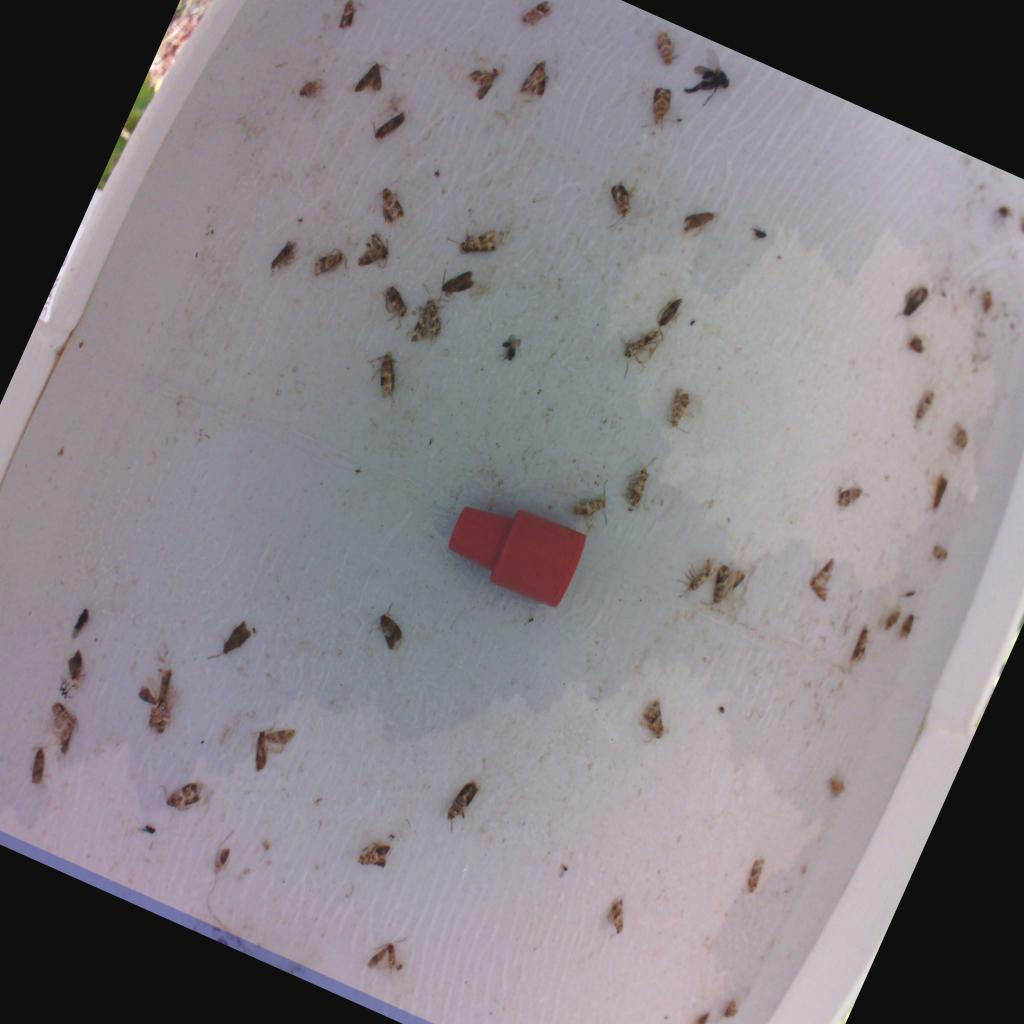grape_moth: (395, 280, 454, 352), (131, 664, 185, 739), (567, 472, 624, 534), (33, 697, 87, 760), (611, 450, 661, 516), (245, 715, 298, 777), (353, 344, 407, 402), (697, 558, 749, 618), (614, 319, 662, 381), (668, 548, 718, 607), (366, 173, 416, 231), (443, 217, 505, 262), (593, 175, 640, 233), (440, 776, 483, 837), (156, 768, 206, 820), (458, 51, 505, 105), (304, 239, 353, 290), (637, 82, 685, 134), (369, 282, 416, 335), (352, 229, 397, 279), (347, 830, 395, 876), (515, 55, 558, 104), (804, 553, 841, 608), (663, 383, 702, 434), (263, 233, 302, 281), (635, 695, 672, 744), (362, 931, 408, 970), (644, 24, 685, 67), (597, 891, 636, 936), (19, 741, 55, 787), (844, 618, 879, 665), (904, 382, 937, 431), (737, 851, 770, 897), (829, 478, 866, 517), (515, 1, 554, 34), (900, 328, 933, 361), (332, 1, 364, 34), (294, 69, 324, 101)
